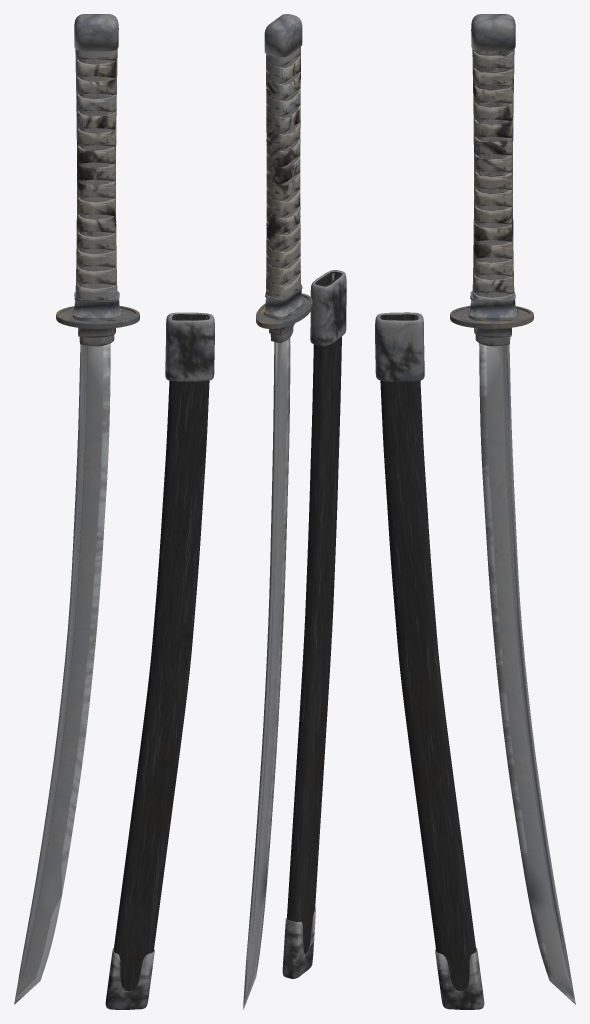
The model's file is katana-original.glb.
3 views of the same model, side by side, from view 1: azimuth 90°, elevation 25°; view 2: azimuth 150°, elevation 25°; view 3: azimuth 270°, elevation 25° (orthographic). The views are drawn at different scales.
Parts seen in each view (by area): view 1: Küp.002-web, Küp.005-web, NurbsYolu.002-web, Küp.004-web, Küp.008-web, Küp.013-web, Küp.003-web, Küp.006-web, Silindir-web; view 2: Küp.002-web, Küp.005-web, NurbsYolu.002-web, Küp.004-web, Küp.013-web, Küp.003-web, Küp.006-web, Küp.008-web, Silindir-web; view 3: Küp.002-web, Küp.005-web, NurbsYolu.002-web, Küp.004-web, Küp.008-web, Küp.013-web, Küp.003-web, Küp.006-web, Silindir-web.
Part boxes in pixels (left/top/right/bottom): Küp.002-web: left=113, top=314, right=209, bottom=991; Küp.005-web: left=14, top=343, right=110, bottom=1004; NurbsYolu.002-web: left=75, top=49, right=117, bottom=299; Küp.004-web: left=165, top=312, right=214, bottom=381; Küp.008-web: left=78, top=59, right=112, bottom=288; Küp.013-web: left=105, top=948, right=154, bottom=1009; Küp.003-web: left=74, top=14, right=118, bottom=51; Küp.006-web: left=72, top=291, right=121, bottom=320; Silindir-web: left=56, top=306, right=139, bottom=328; Küp.002-web: left=287, top=271, right=341, bottom=954; Küp.005-web: left=243, top=337, right=290, bottom=1009; NurbsYolu.002-web: left=266, top=47, right=300, bottom=298; Küp.004-web: left=310, top=270, right=346, bottom=346; Küp.013-web: left=282, top=908, right=315, bottom=978; Küp.003-web: left=264, top=14, right=302, bottom=57; Küp.006-web: left=263, top=284, right=303, bottom=319; Küp.008-web: left=281, top=56, right=298, bottom=285; Silindir-web: left=256, top=293, right=312, bottom=328; Küp.002-web: left=380, top=314, right=476, bottom=991; Küp.005-web: left=479, top=343, right=575, bottom=1004; NurbsYolu.002-web: left=472, top=49, right=514, bottom=299; Küp.004-web: left=375, top=312, right=424, bottom=381; Küp.008-web: left=475, top=51, right=509, bottom=297; Küp.013-web: left=435, top=948, right=484, bottom=1009; Küp.003-web: left=471, top=14, right=515, bottom=51; Küp.006-web: left=468, top=291, right=517, bottom=320; Silindir-web: left=450, top=305, right=533, bottom=328.
Bounding box in the file's own units: 0.0861 × 2 × 0.3675.
Materials: 12 (12 with a texture image).
